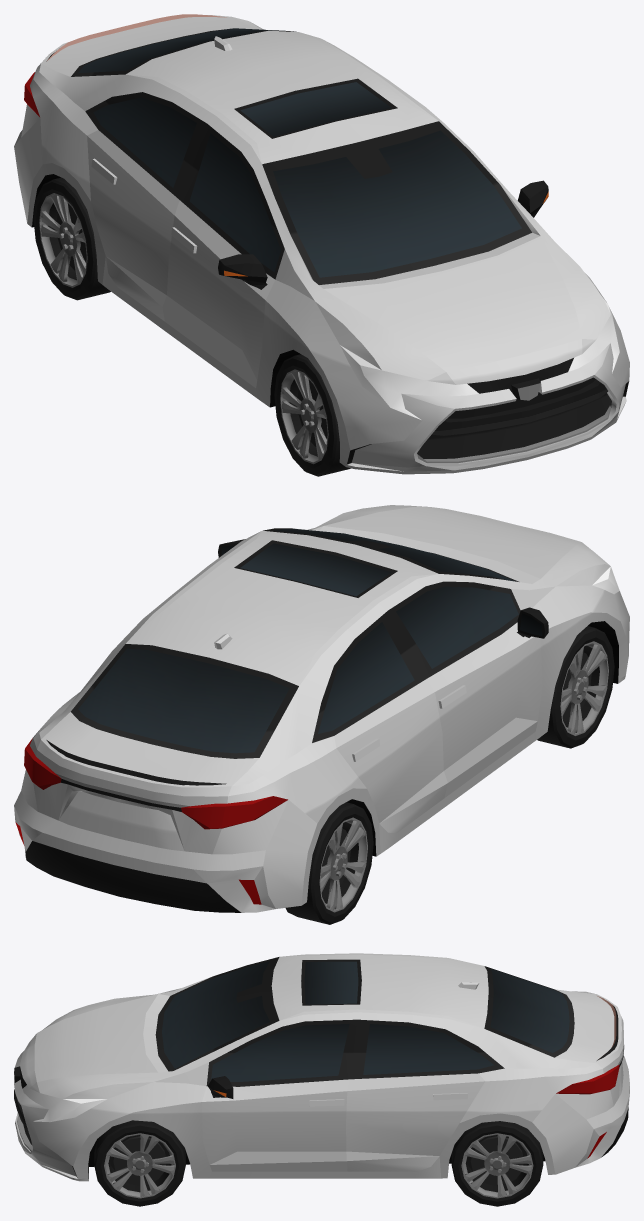
File: Simple_Japanese_Car_V24.fbx
3 views of the same model, one above another, from view 1: azimuth 30°, elevation 25°; view 2: azimuth 150°, elevation 25°; view 3: azimuth 270°, elevation 25° (orthographic). The views are drawn at different scales.
Parts seen in each view (by area): view 1: Body.010, RR.011, FR.011; view 2: Body.010, RR.011, FR.011; view 3: Body.010, FL.011, RL.011.
Boxes of the visible parts, left/top/right/bottom form: Body.010: left=14, top=14, right=629, bottom=474; RR.011: left=33, top=177, right=110, bottom=300; FR.011: left=274, top=354, right=350, bottom=476; Body.010: left=14, top=505, right=629, bottom=912; RR.011: left=285, top=802, right=373, bottom=924; FR.011: left=537, top=626, right=614, bottom=748; Body.010: left=14, top=953, right=629, bottom=1181; FL.011: left=94, top=1120, right=185, bottom=1206; RL.011: left=451, top=1121, right=543, bottom=1206.
Size of the model in its own units: 1.93 by 1.34 by 4.24.
Materials: 2 (2 with a texture image).
